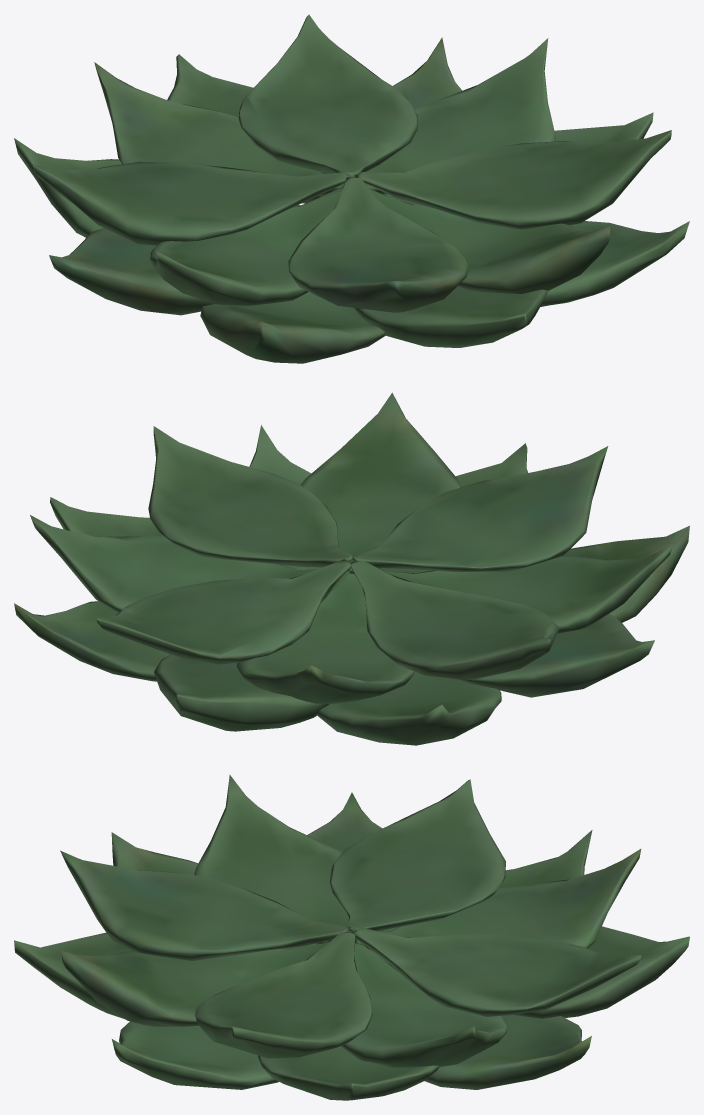
File: SM_Lotus_M_SM_LotusLeaf_M_66e576.glb
3 renders of one model, top to bottom at view 1: azimuth 30°, elevation 25°; view 2: azimuth 150°, elevation 25°; view 3: azimuth 270°, elevation 25°, orthographic. The views are drawn at different scales.
Bounding box in the file's own units: 2.44 × 0.4853 × 2.43.
Materials: 1 (1 with a texture image).
